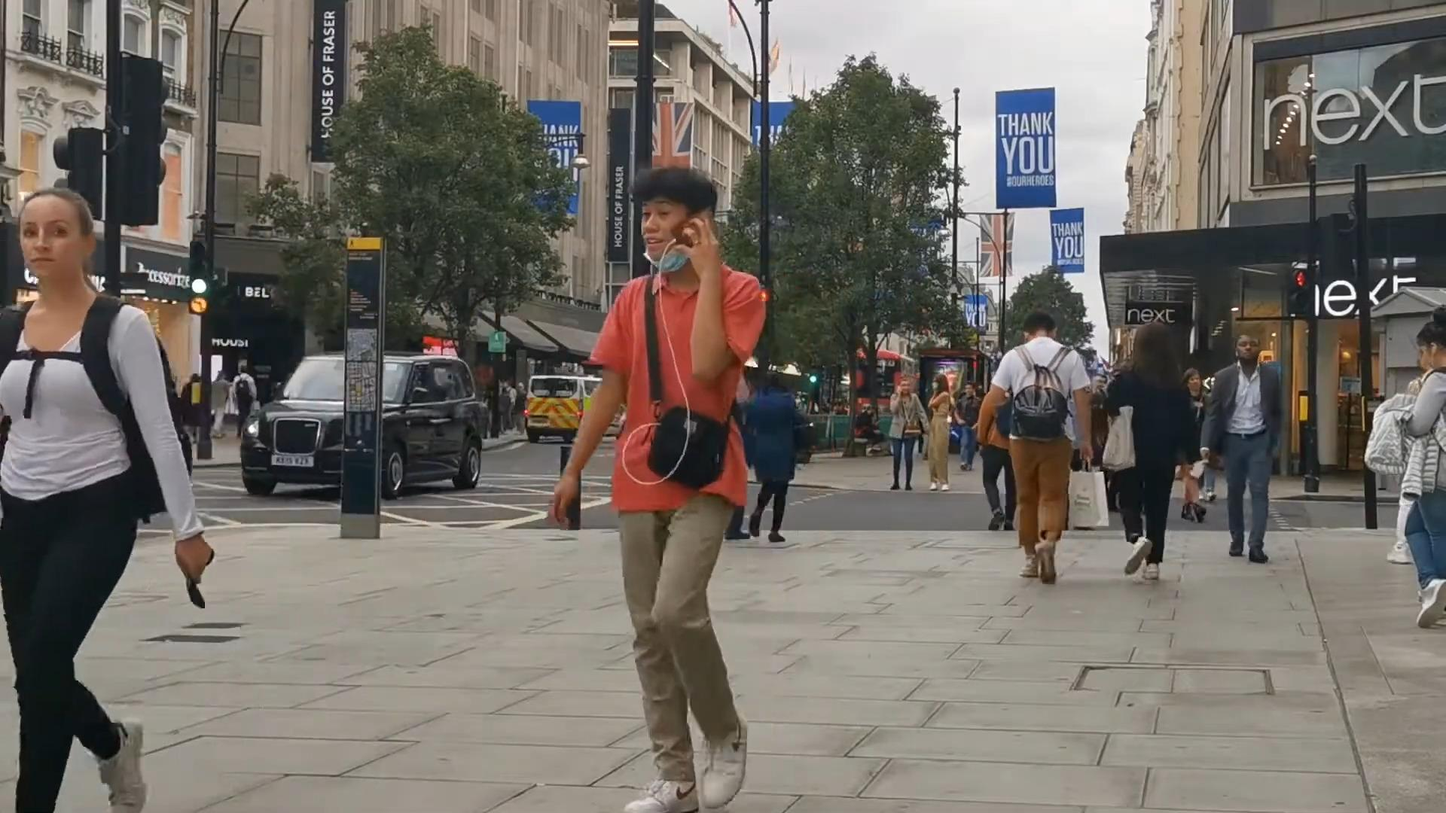no-helmet: (627, 164, 719, 276), (18, 187, 98, 279), (1132, 322, 1181, 374), (1416, 303, 1446, 371), (1023, 311, 1057, 342), (1235, 334, 1263, 362), (762, 371, 789, 397), (1178, 368, 1203, 392), (932, 373, 949, 394), (897, 378, 911, 395), (963, 380, 975, 396)
